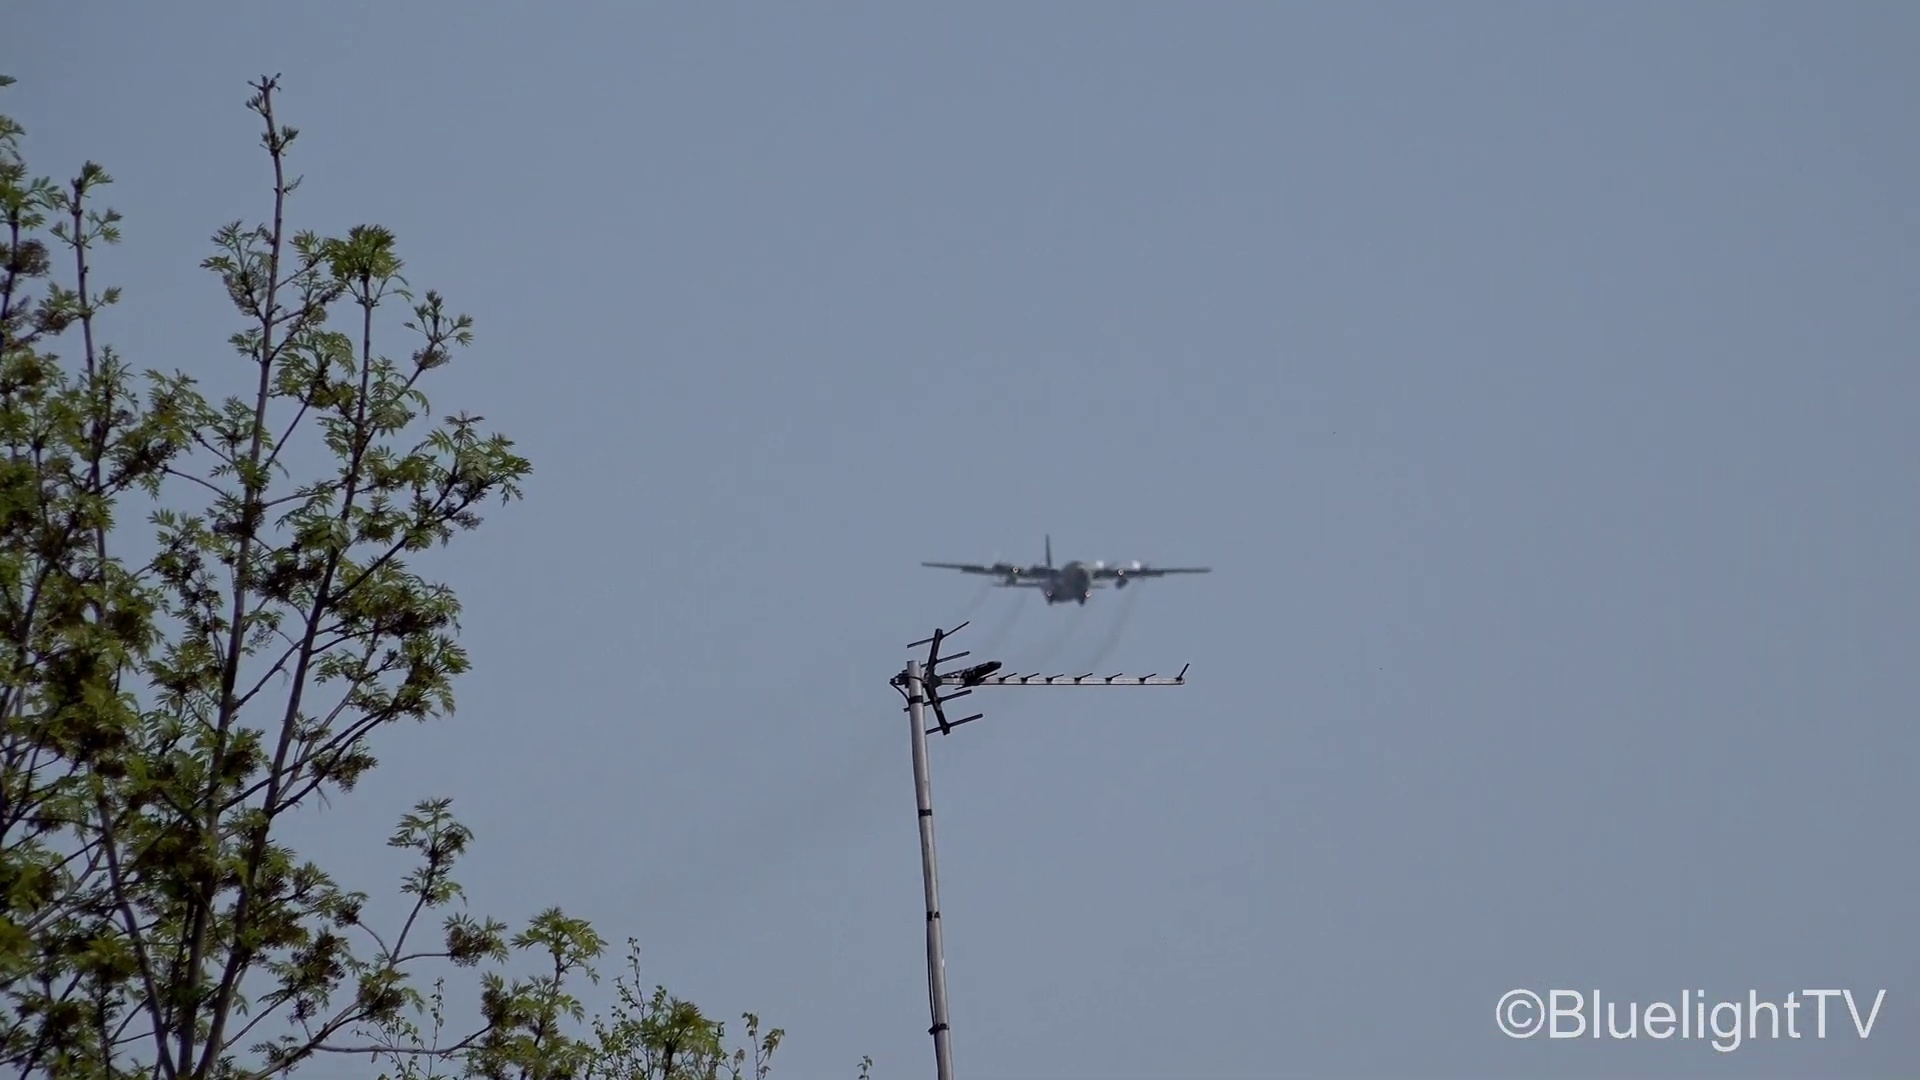Airplane: (919, 530, 1218, 608)
